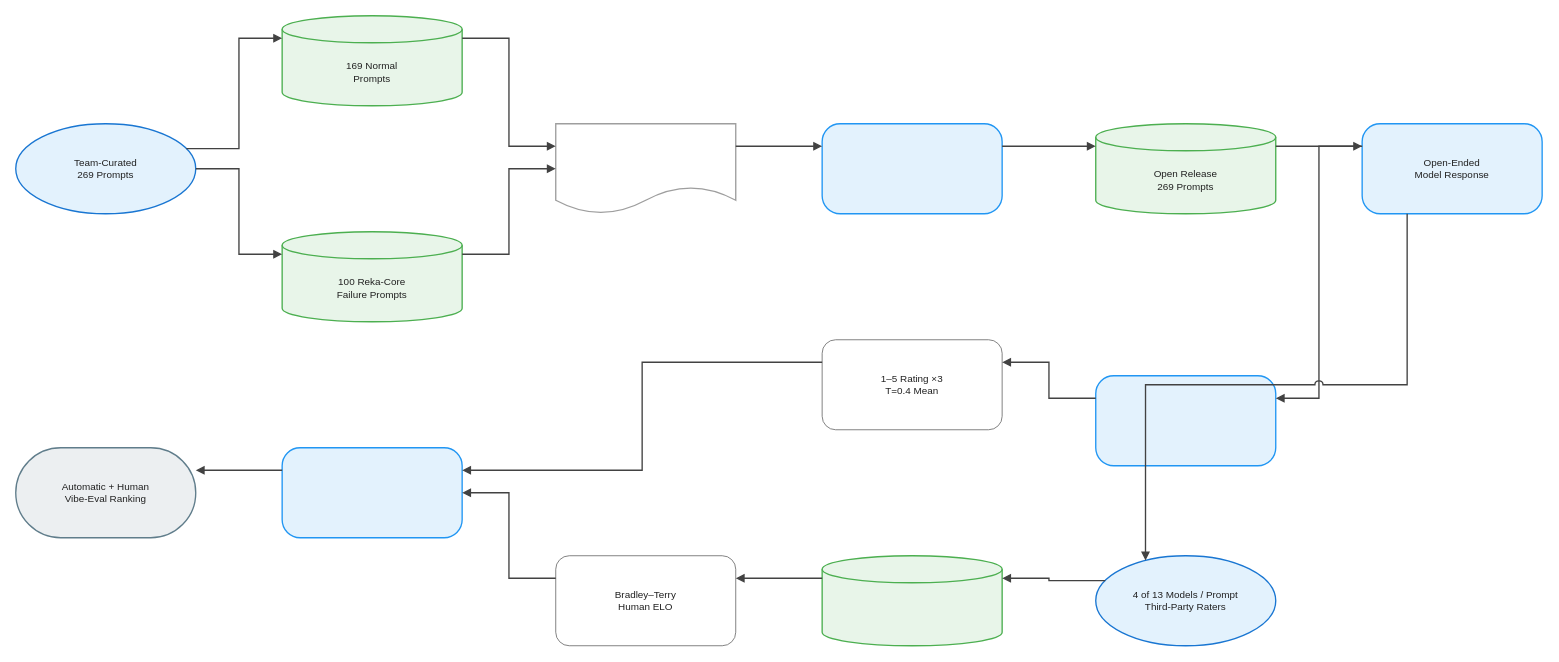
Some shapes in this 1559 by 662 pixel diagram are drawn without their labels. The shapes that lost their labels are listed below. From the top down, each one's box as (x1, y1, x2, y2) in pixels, then its label:
(555, 123, 736, 214): Human Gold Response for Every Prompt
(821, 123, 1002, 214): Two Independent Review Rounds
(1095, 375, 1276, 466): Prompt + Response + Gold Reka Core Judge
(281, 447, 462, 538): Ranking Correlation + Agreement
(821, 555, 1002, 646): ≈20K Pairwise Preferences Including Ties
